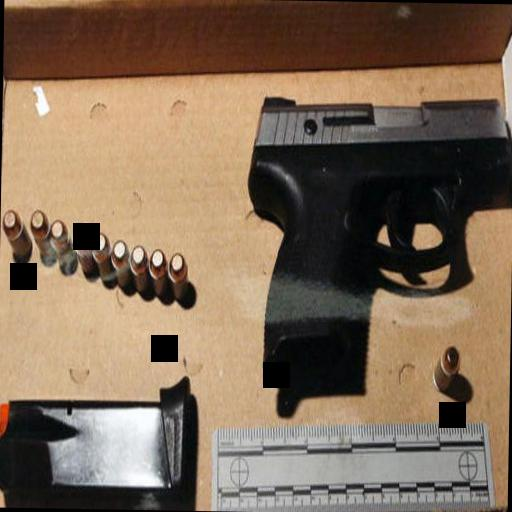Handgun: (244, 91, 512, 383)
